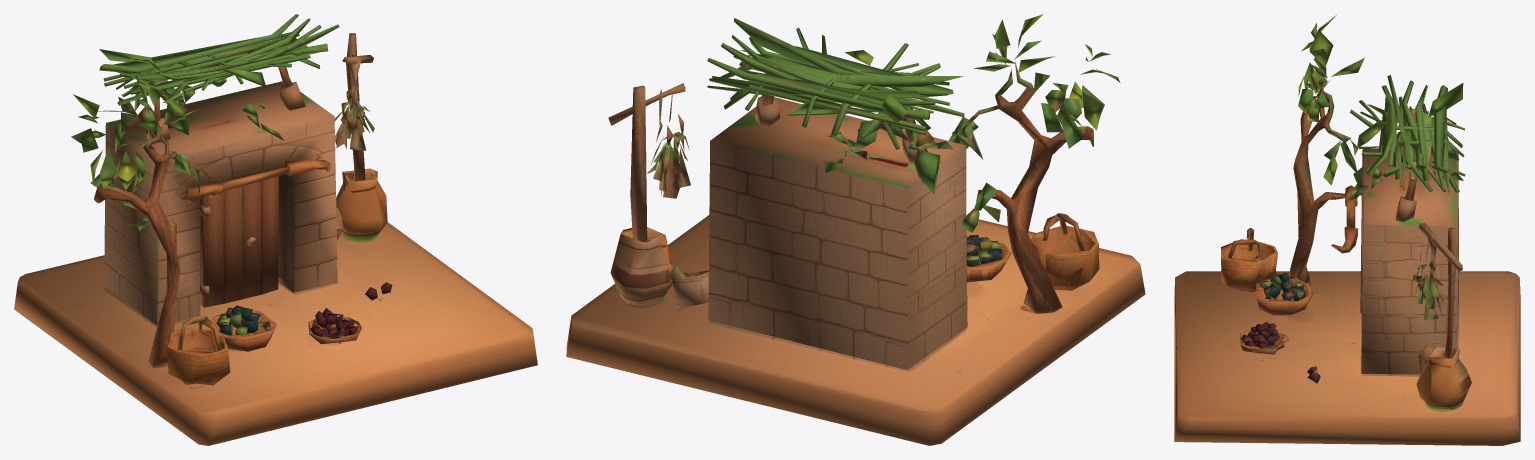
File: gatherer.glb
The picture shows the model from 3 angles, left to right: view 1: azimuth 30°, elevation 25°; view 2: azimuth 150°, elevation 25°; view 3: azimuth 270°, elevation 25°; orthographic projection. The views are drawn at different scales.
Size of the model in its own units: 0.958 by 0.709 by 0.813.
1 material, 1 textured.
